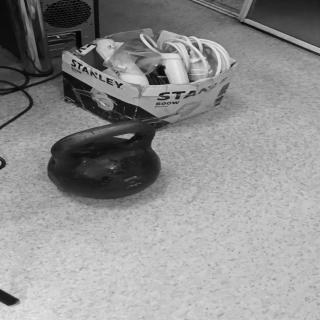kettlebell: (48, 121, 163, 202)
